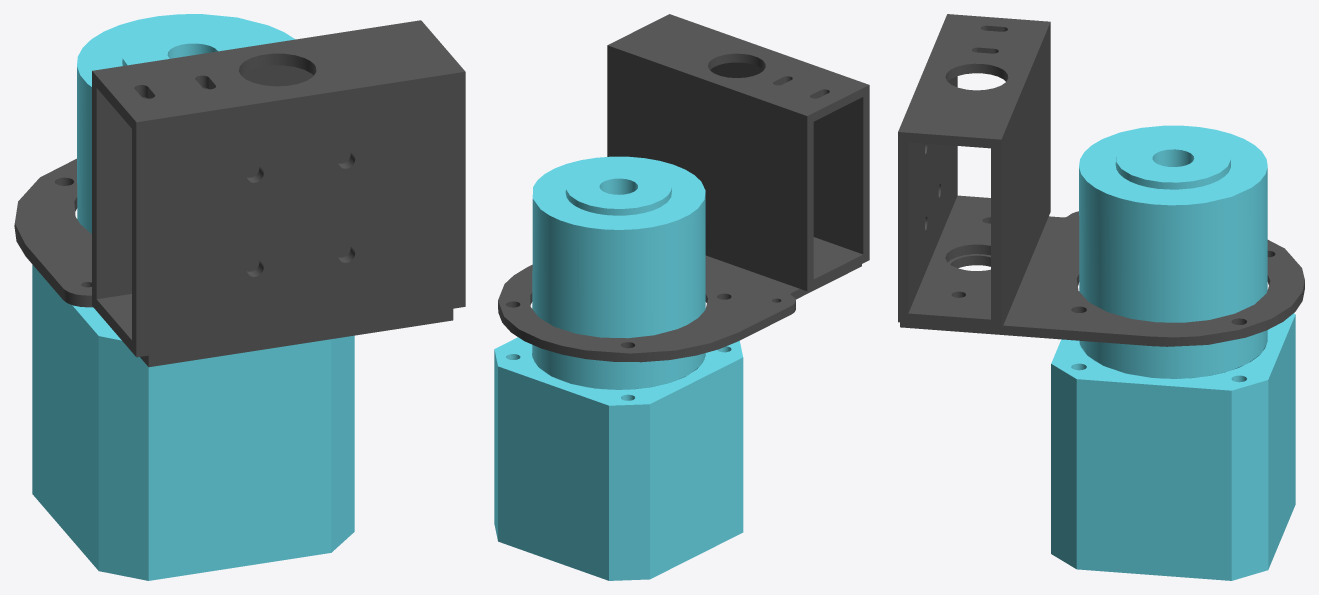
The model's file is StaticMesh3.FBX.
3 renders of one model, left to right at view 1: azimuth 30°, elevation 25°; view 2: azimuth 150°, elevation 25°; view 3: azimuth 270°, elevation 25°, orthographic. The views are drawn at different scales.
Parts seen in each view (by area): view 1: StaticMesh3; view 2: StaticMesh3; view 3: StaticMesh3.
Part boxes in pixels (bbox=[...]): StaticMesh3: bbox=[14, 14, 465, 580]; StaticMesh3: bbox=[494, 14, 869, 580]; StaticMesh3: bbox=[898, 14, 1304, 580].
Bounding box in the file's own units: 6 × 7.75 × 9.2.
